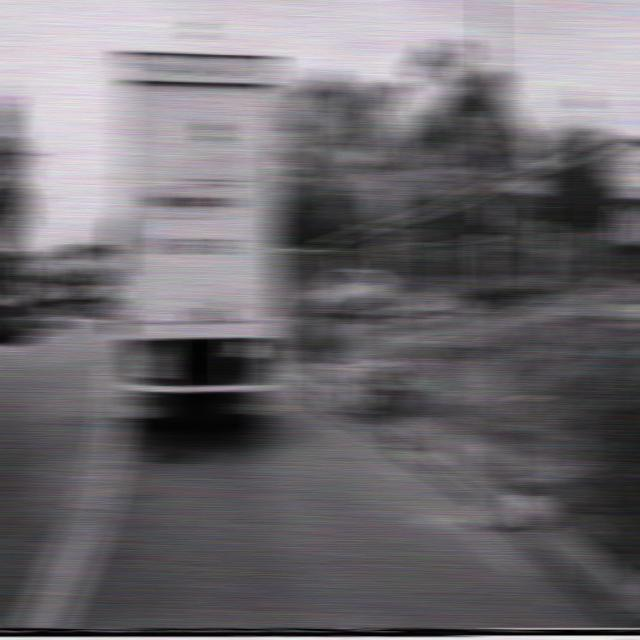stop: (367, 180, 402, 227)
